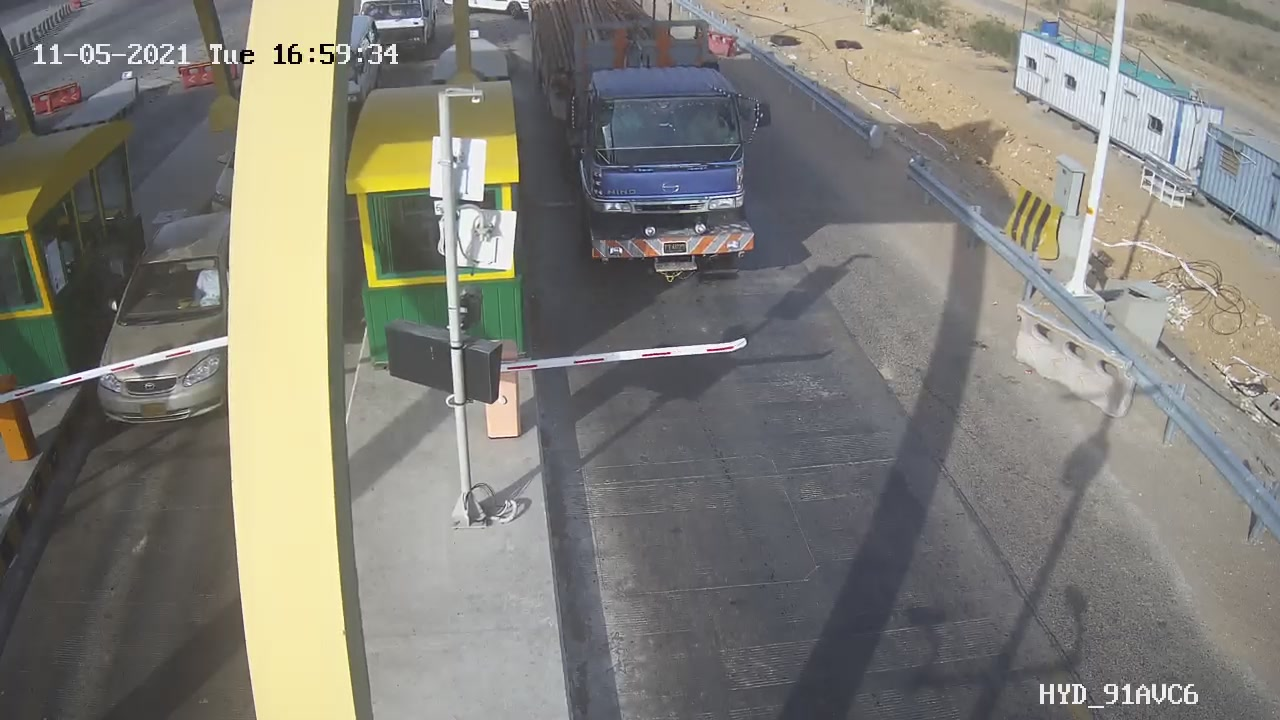F6: (517, 1, 799, 307)
